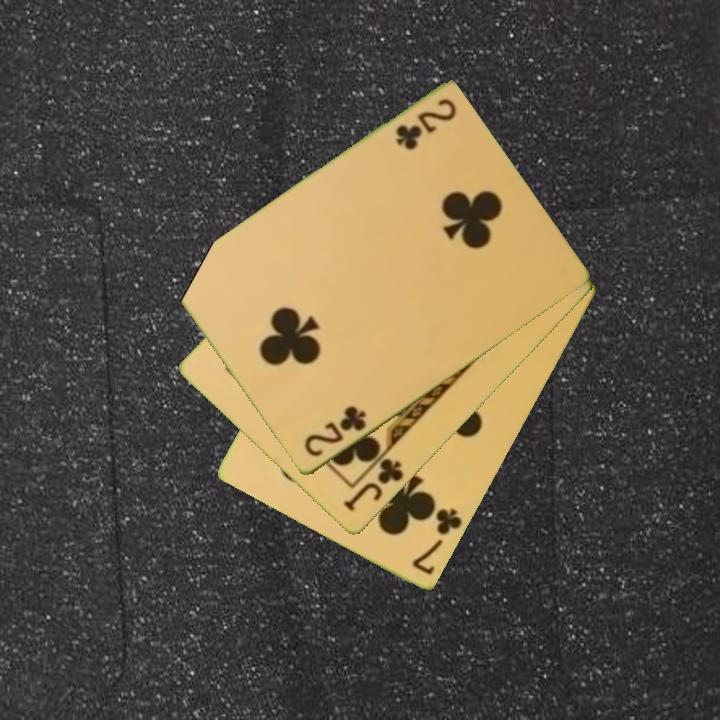2c: (300, 402, 369, 461), (392, 95, 460, 152)
7c: (409, 505, 465, 578)
Jc: (339, 455, 407, 515)
